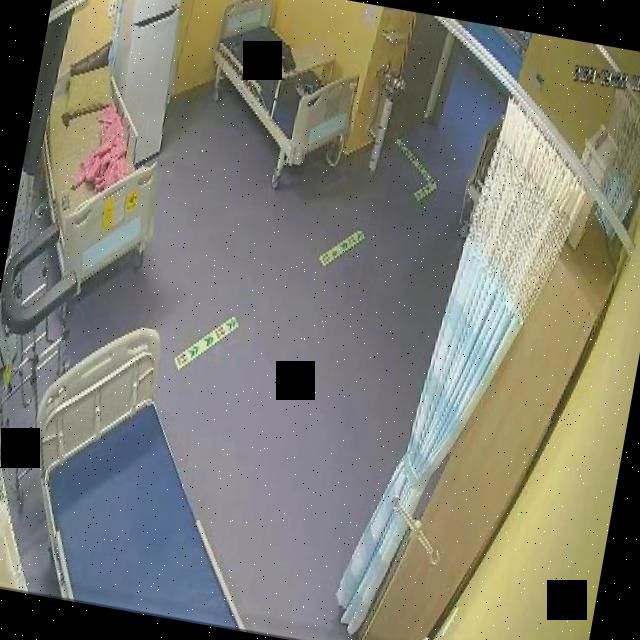bed: (5, 312, 292, 629), (18, 46, 184, 294), (194, 0, 371, 176)
walker: (0, 218, 88, 502)
